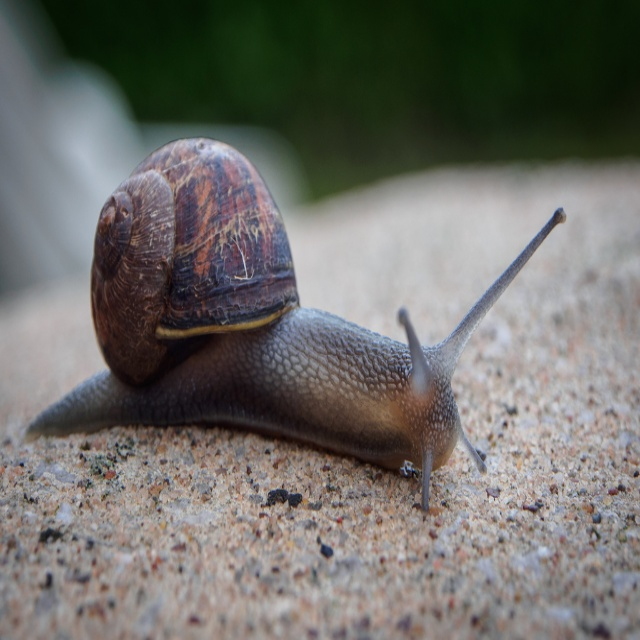Snail: (16, 129, 569, 516)
